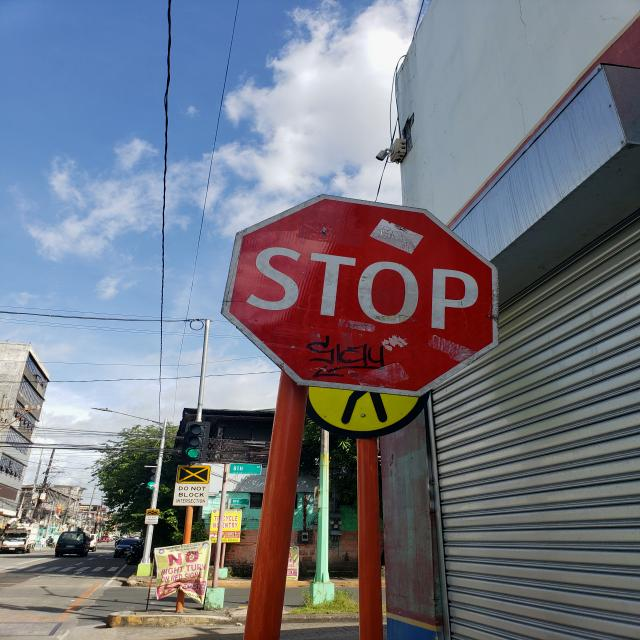stop-sign: (220, 193, 499, 398)
